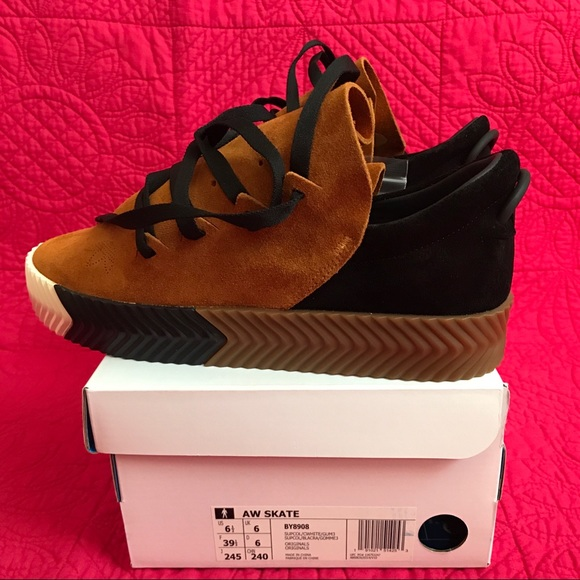adidas AW Skate Sand: (7, 76, 539, 382)
